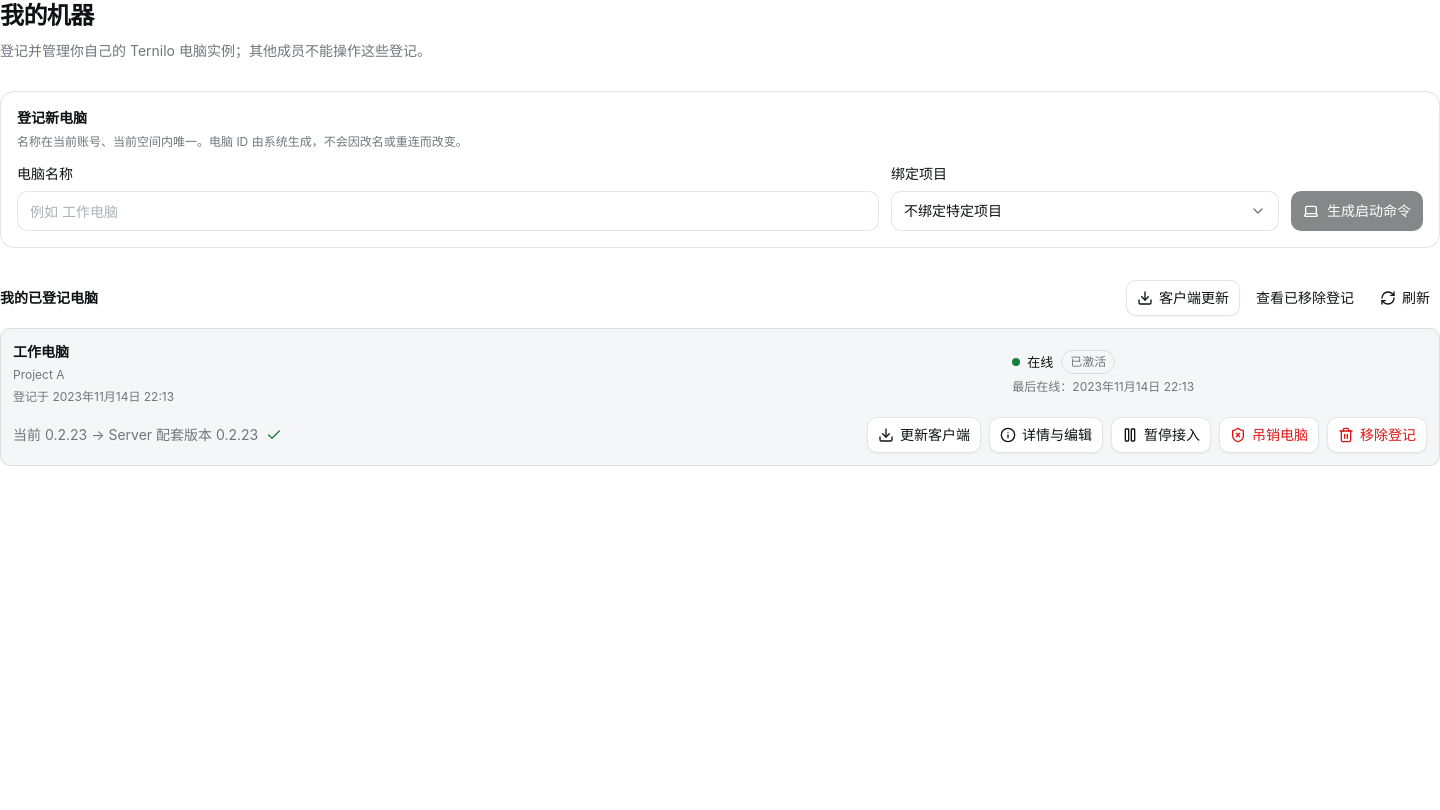
it: shares refreshed version status from the update dialog back to its computer row
This screenshot has width=1440, height=810.
Expected: the element that starts with "工作电脑" shows "当前 0.2.23 → Server 配套版本 0.2.23", [13,426,258,443]
Expected: the message "当前 0.2.23 → Server 配套版本 0.2.23" is shown, [13,425,282,445]
Click the button "更新客户端" at (924, 435), box [867,417,981,453]
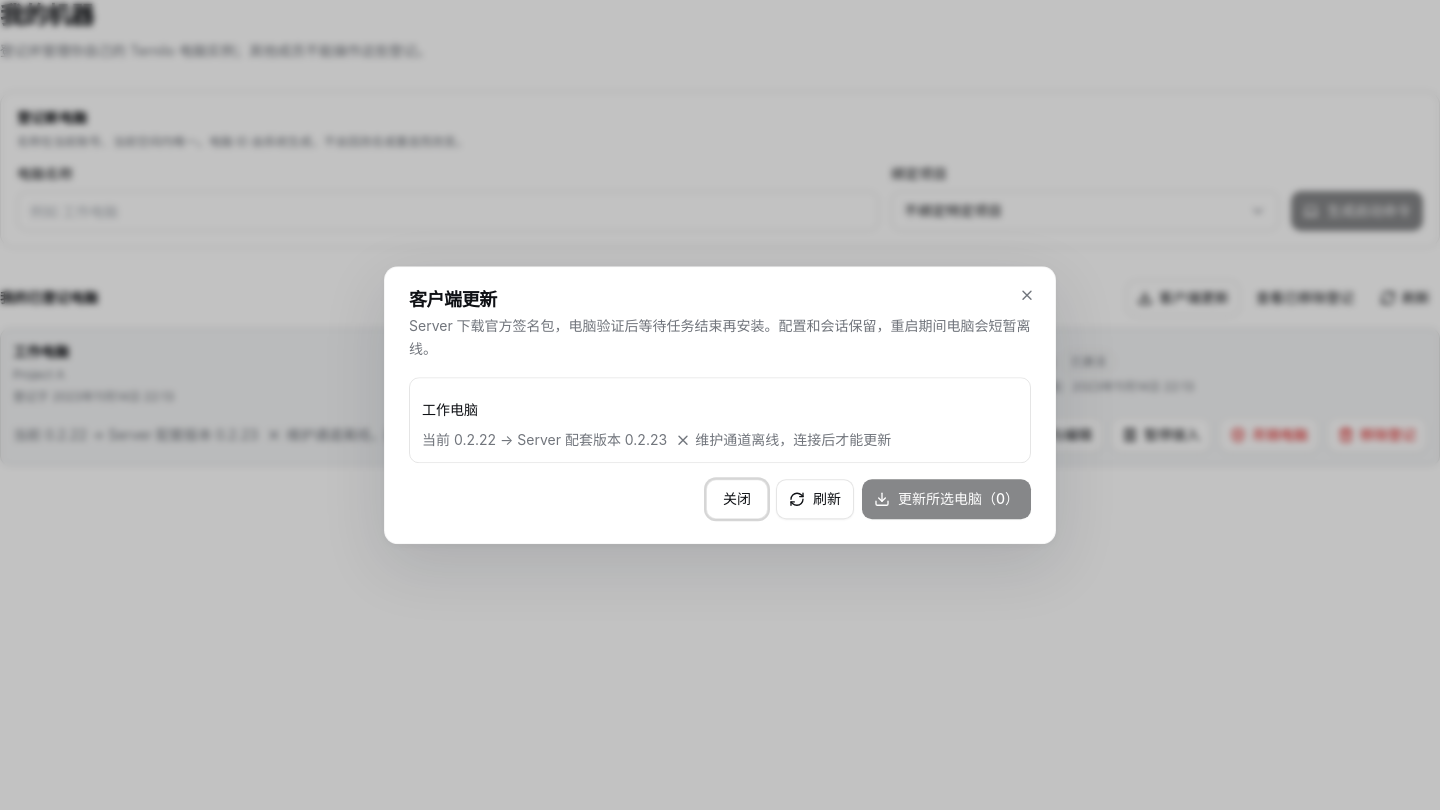
Expected: the element that starts with "工作电脑" shows "当前 0.2.22 → Server 配套版本 0.2.23", [13,426,258,443]
Expected: the element that starts with "工作电脑" shows "维护通道离线，连接后才能更新", [286,426,482,443]
Expected: the dialog shows "当前 0.2.22 → Server 配套版本 0.2.23", [422,431,667,448]
